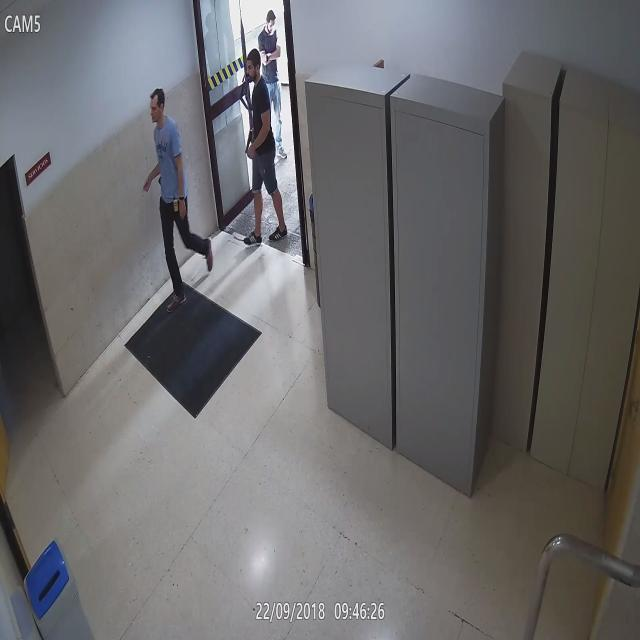Gun: (238, 124, 264, 162)
